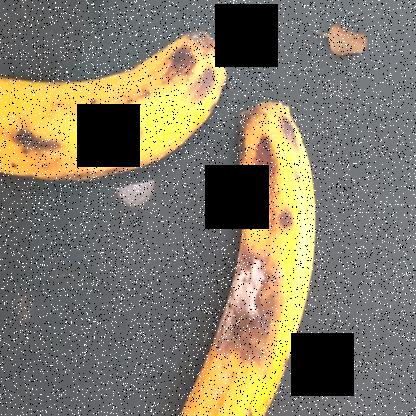overripe: (0, 23, 233, 242), (169, 109, 322, 415)
